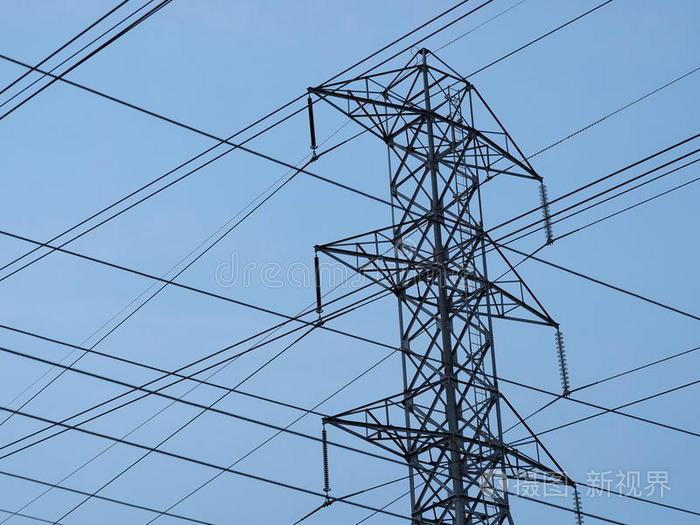insulator: (553, 329, 573, 390), (539, 184, 555, 241), (570, 490, 586, 525)
